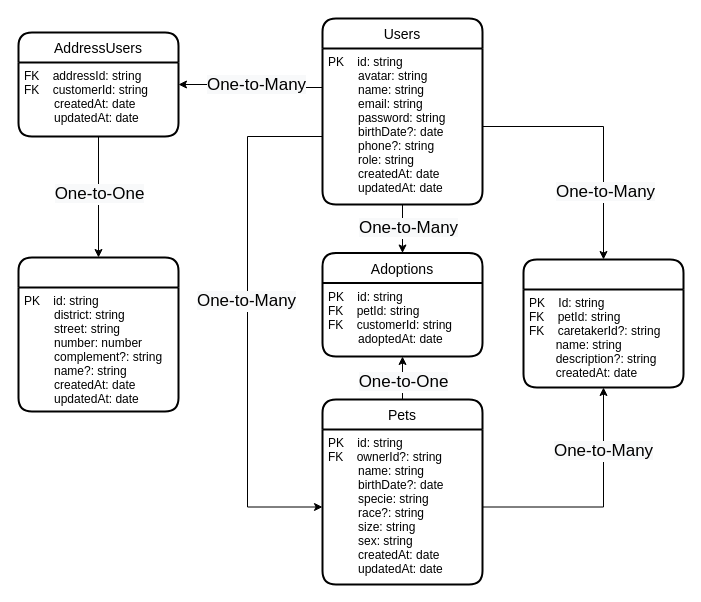
The diagram is 701 pixels wide and 602 high, and some of its shapes have lost their labels. The box of each missing label's shape, as (x1, y1, x2, y2) in pixels:
Activities: (522, 258, 684, 388)
Addresses: (17, 256, 179, 412)
